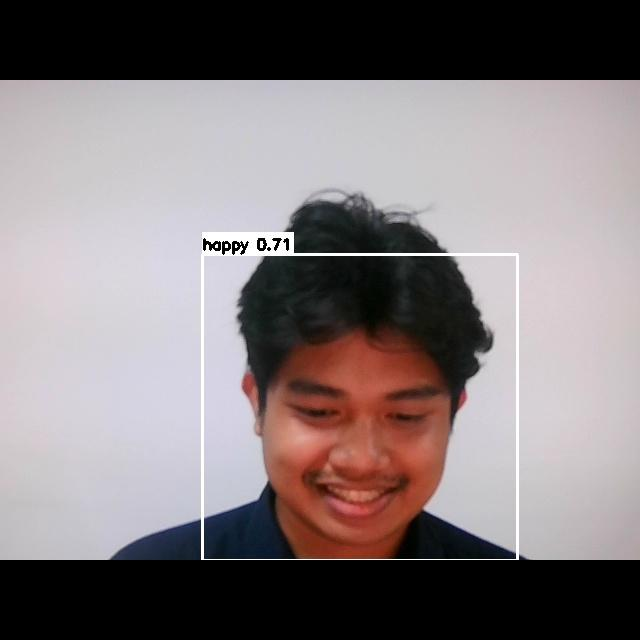Happy: (260, 351, 454, 526)
